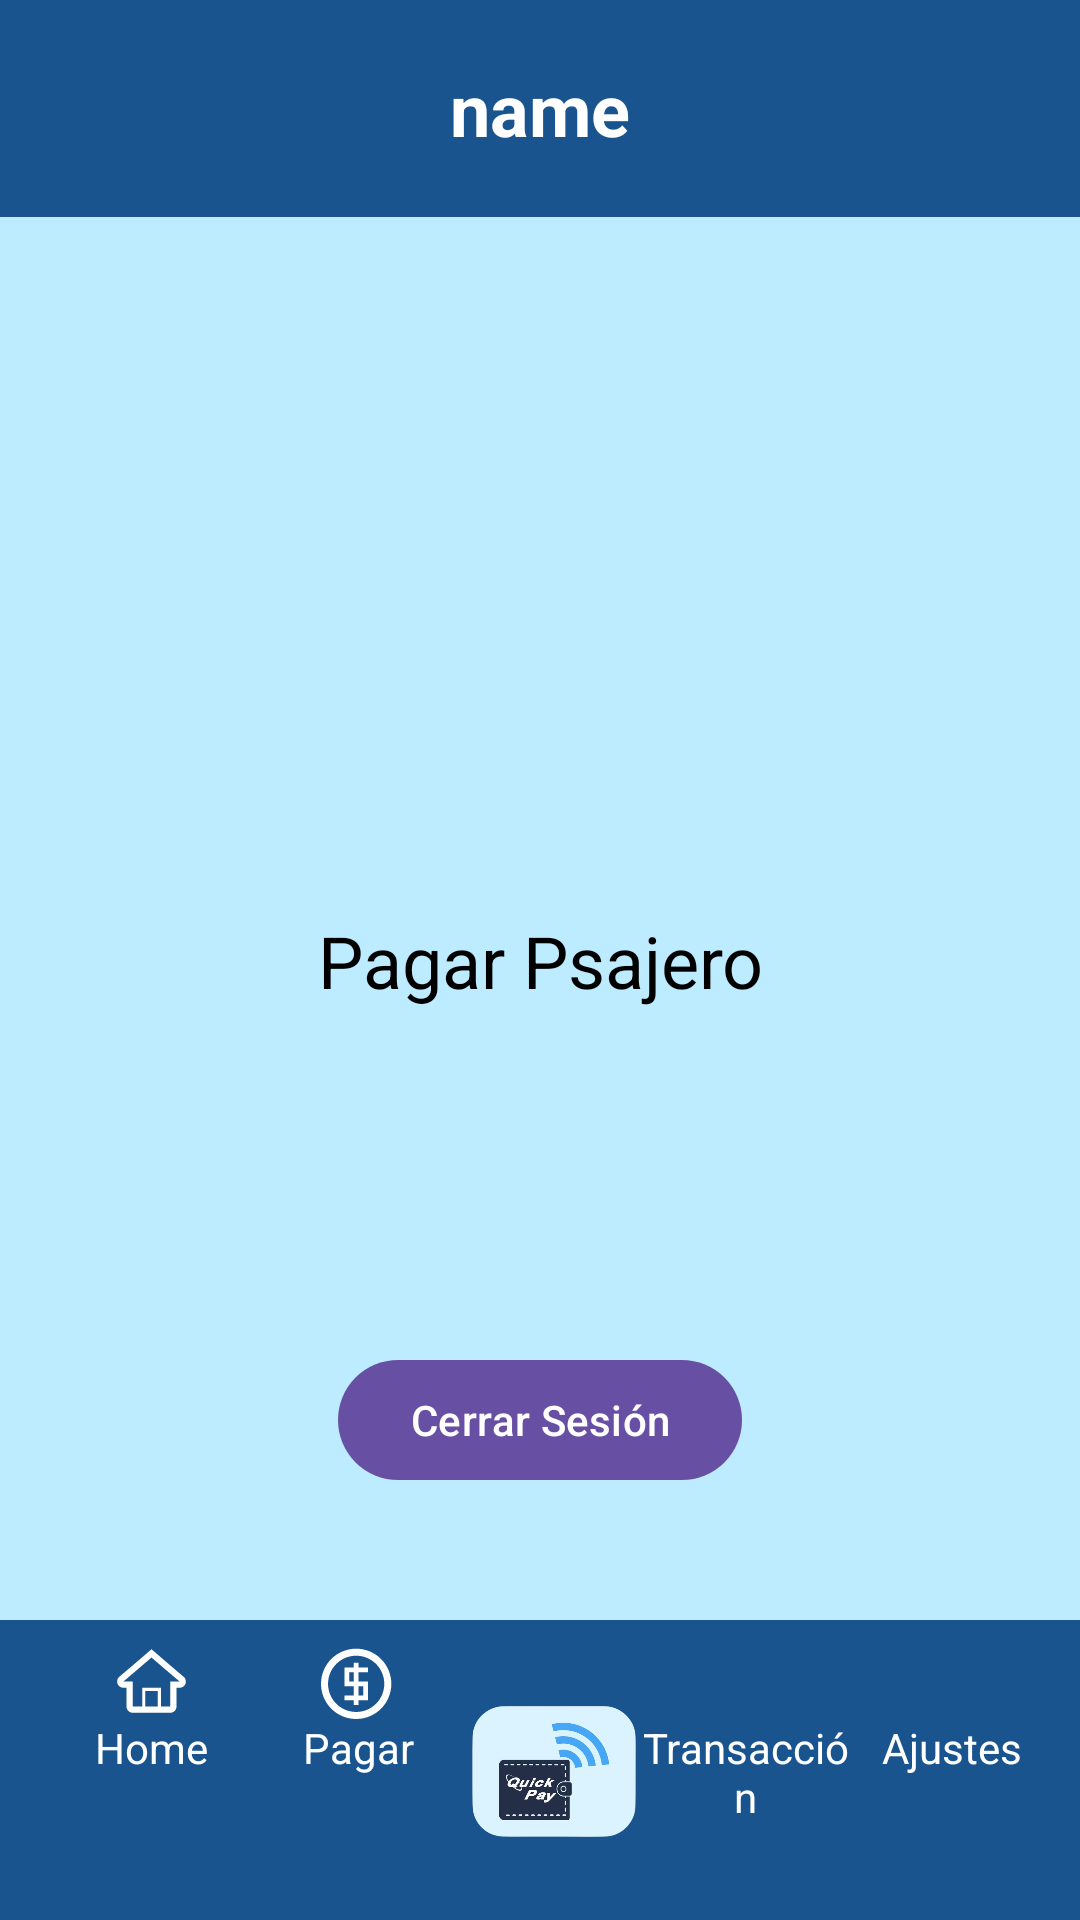

Where to tap for icons on this 1080px x 1920px app screen, as [x,y]:
coin dollar: [356,1683]
